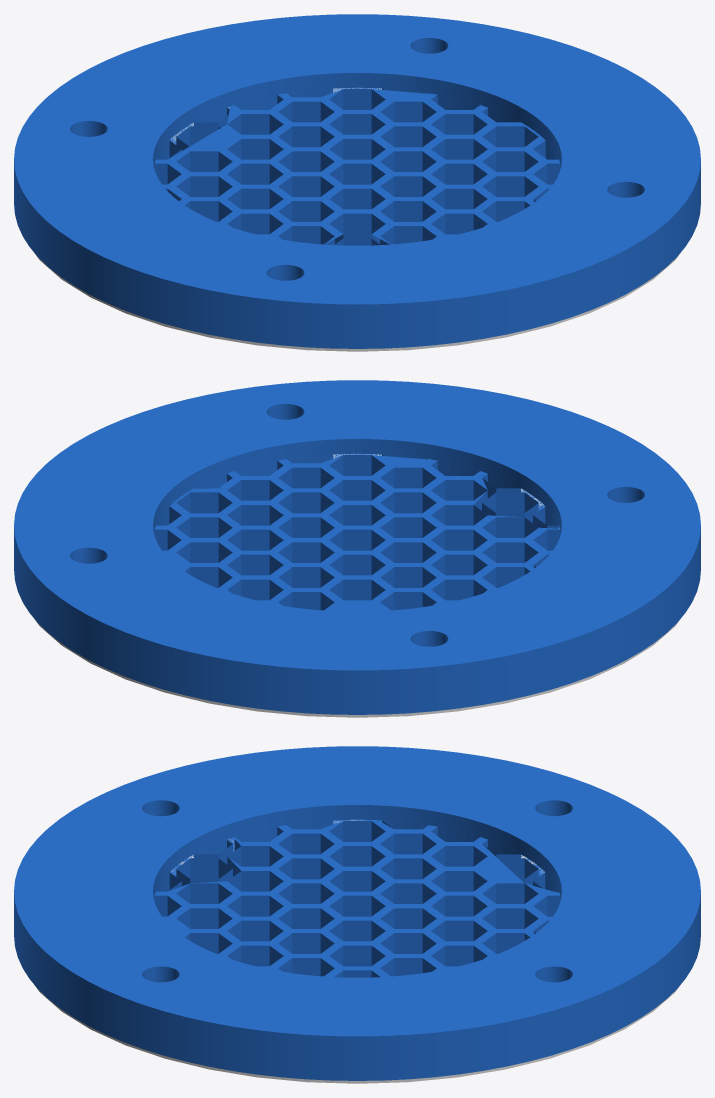
Rendered from m10_baugruppe.glb.
3 renders of one model, top to bottom at view 1: azimuth 30°, elevation 25°; view 2: azimuth 150°, elevation 25°; view 3: azimuth 270°, elevation 25°, orthographic.
Visible parts, largest first — view 1: M10-P01_1, M10-P02_1; view 2: M10-P01_1, M10-P02_1; view 3: M10-P01_1, M10-P02_1.
Part boxes in pixels (x1,y1,x2,y2): M10-P01_1: (14,14,700,348); M10-P02_1: (24,88,690,351); M10-P01_1: (14,380,700,714); M10-P02_1: (24,454,690,717); M10-P01_1: (14,746,700,1080); M10-P02_1: (24,819,690,1083).
Size of the model in its own units: 84 by 6.5 by 84.
